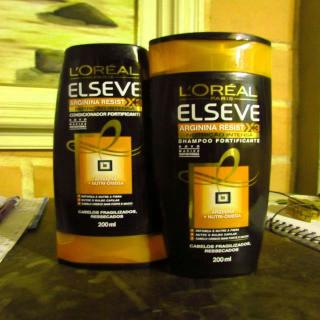Plastic-bottle: (138, 33, 287, 279), (43, 42, 171, 268)
